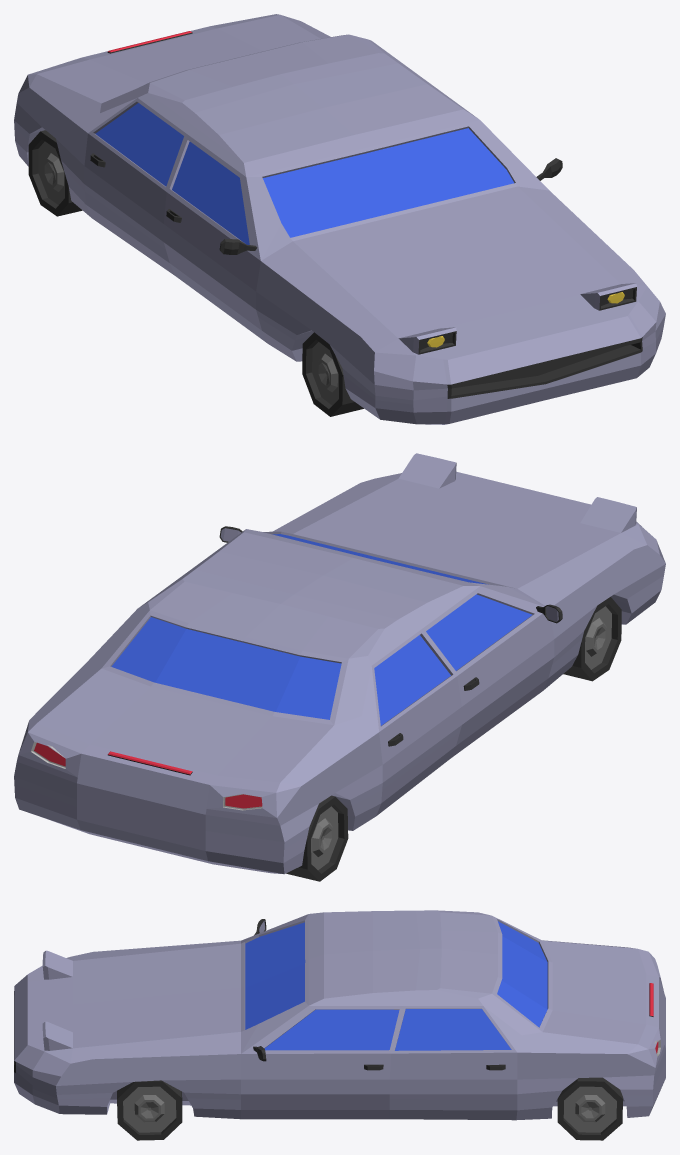
File: car_element.fbx
3 renders of one model, top to bottom at view 1: azimuth 30°, elevation 25°; view 2: azimuth 150°, elevation 25°; view 3: azimuth 270°, elevation 25°, orthographic. The views are drawn at different scales.
Parts seen in each view (by area): view 1: Car; view 2: Car; view 3: Car.
Part boxes in pixels (left/top/right/bottom): Car: left=14, top=14, right=665, bottom=424; Car: left=14, top=453, right=665, bottom=881; Car: left=14, top=910, right=665, bottom=1140.
Size of the model in its own units: 516 by 246 by 1057.
